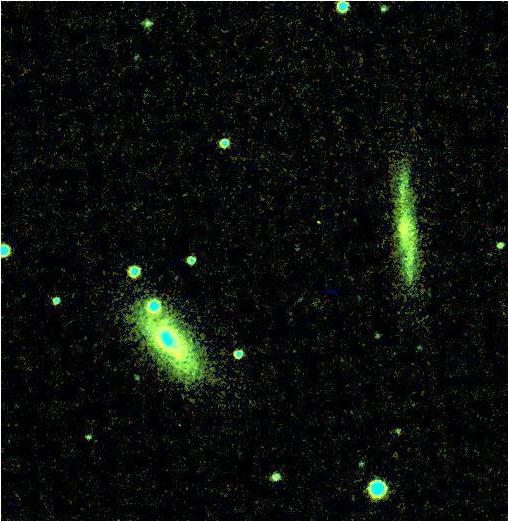star: (302, 206, 332, 236)
